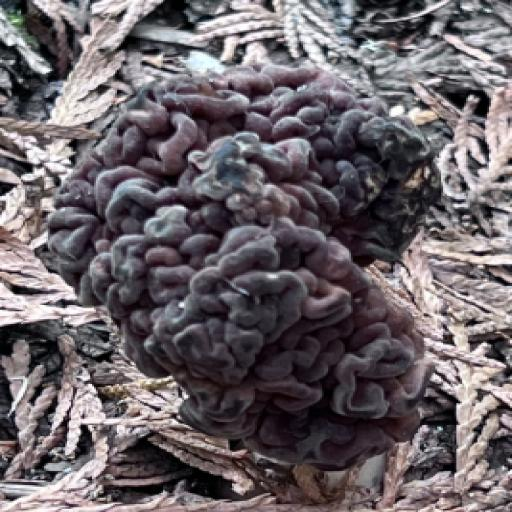False Morel: (48, 71, 445, 459)
